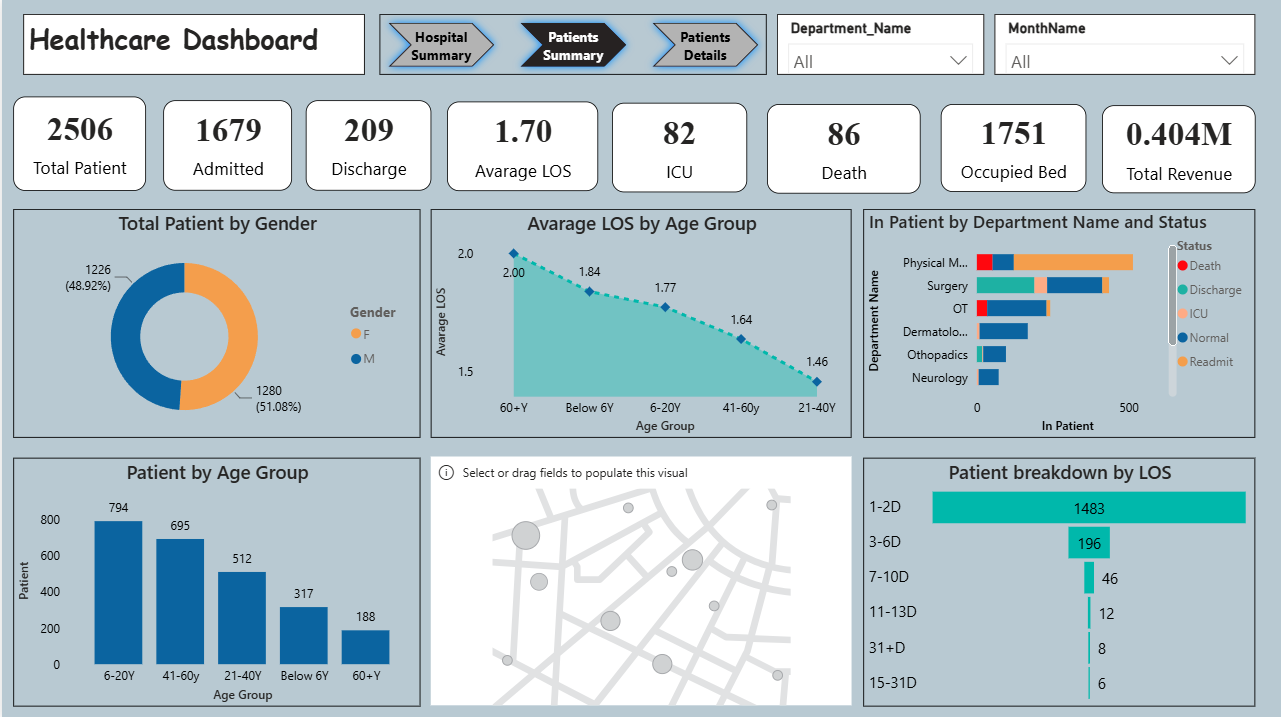

The page's visual inventory and layout, read from the dashboard file:
{"tool":"powerbi","page":{"name":"Patients Summary ","canvas":[1280,720],"ordinal":1},"visuals":[{"type":"cardVisual","fields":{"Data":["Measure.Total Patient"]},"box":[11.6,97.7,132.6,94.2],"z":0},{"type":"textbox","box":[20.9,15.1,341.9,60.5],"z":1000},{"type":"slicer","fields":{"Values":["Department.Department_Name"]},"box":[775.6,15.1,207,60.5],"z":2000},{"type":"slicer","fields":{"Values":["Calendar_date.MonthName"]},"box":[993,15.1,260.5,60.5],"z":3000},{"type":"cardVisual","fields":{"Data":["Measure.In Patient"]},"box":[161.6,101.2,129.1,90.7],"z":4000},{"type":"cardVisual","fields":{"Data":["Measure.Total Discharge"]},"box":[303.5,101.2,125.6,90.7],"z":5000},{"type":"cardVisual","fields":{"Data":["Measure.Avarage LOS"]},"box":[445.4,102.3,151.2,89.5],"z":6000},{"type":"cardVisual","fields":{"Data":["Measure.ICU"]},"box":[610.5,103.5,134.9,89.5],"z":7000},{"type":"cardVisual","fields":{"Data":["Measure.Death"]},"box":[765.1,104.7,153.5,89.5],"z":8000},{"type":"cardVisual","fields":{"Data":["Measure.Occupied Bed"]},"box":[938.4,104.7,145.3,88.4],"z":9000},{"type":"cardVisual","fields":{"Data":["Measure.Total Revenue"]},"box":[1100,105.8,153.5,88.4],"z":10000},{"type":"donutChart","fields":{"Category":["Detail data dataset.Gender"],"Y":["Measure.Total Patient"]},"box":[11.6,210.5,407,229.1],"z":11000},{"type":"columnChart","fields":{"Y":["Measure.Total Patient"],"Category":["Detail data dataset.Age Bucket"]},"box":[11.6,458.1,407,248.8],"z":12000},{"type":"areaChart","fields":{"Y":["Measure.Avarage LOS"],"Category":["Detail data dataset.Age Bucket"]},"box":[429.1,210.5,420.9,229.1],"z":13000},{"type":"barChart","fields":{"Category":["Department.Department_Name"],"Y":["Measure.In Patient"],"Series":["Detail data dataset.Status"]},"box":[861.6,210.5,391.9,229.1],"z":14000},{"type":"funnel","title":"Patient breakdown by LOS","fields":{"Y":["Measure.Total Patient"],"Category":["Detail data dataset.Custom"]},"box":[861.6,458.1,391.9,248.8],"z":15000},{"type":"pageNavigator","box":[377.9,15.1,387.2,60.5],"z":17000},{"type":"map","box":[429,458,421,249],"z":17001}]}

Visuals, with their boxes in screenshot pixels (x1, y1, x2, y2), scaled from the page's 1280x720 canvas onto the 1281x717 screenshot:
cardVisual - Measure.Total Patient: 12, 97, 144, 191
textbox: 21, 15, 363, 75
slicer - Department.Department_Name: 776, 15, 983, 75
slicer - Calendar_date.MonthName: 994, 15, 1254, 75
cardVisual - Measure.In Patient: 162, 101, 291, 191
cardVisual - Measure.Total Discharge: 304, 101, 429, 191
cardVisual - Measure.Avarage LOS: 446, 102, 597, 191
cardVisual - Measure.ICU: 611, 103, 746, 192
cardVisual - Measure.Death: 766, 104, 919, 193
cardVisual - Measure.Occupied Bed: 939, 104, 1085, 192
cardVisual - Measure.Total Revenue: 1101, 105, 1254, 193
donutChart - Detail data dataset.Gender x Measure.Total Patient: 12, 210, 419, 438
columnChart - Measure.Total Patient x Detail data dataset.Age Bucket: 12, 456, 419, 704
areaChart - Measure.Avarage LOS x Detail data dataset.Age Bucket: 429, 210, 851, 438
barChart - Department.Department_Name x Measure.In Patient: 862, 210, 1254, 438
"Patient breakdown by LOS" funnel: 862, 456, 1254, 704
pageNavigator: 378, 15, 766, 75
map: 429, 456, 851, 704
